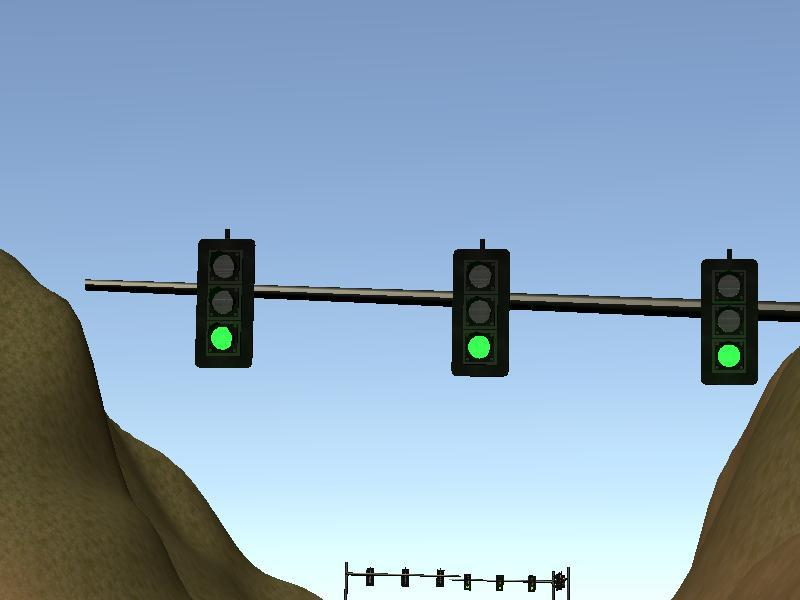Green: (701, 261, 757, 383), (199, 241, 250, 366), (454, 252, 506, 374)
